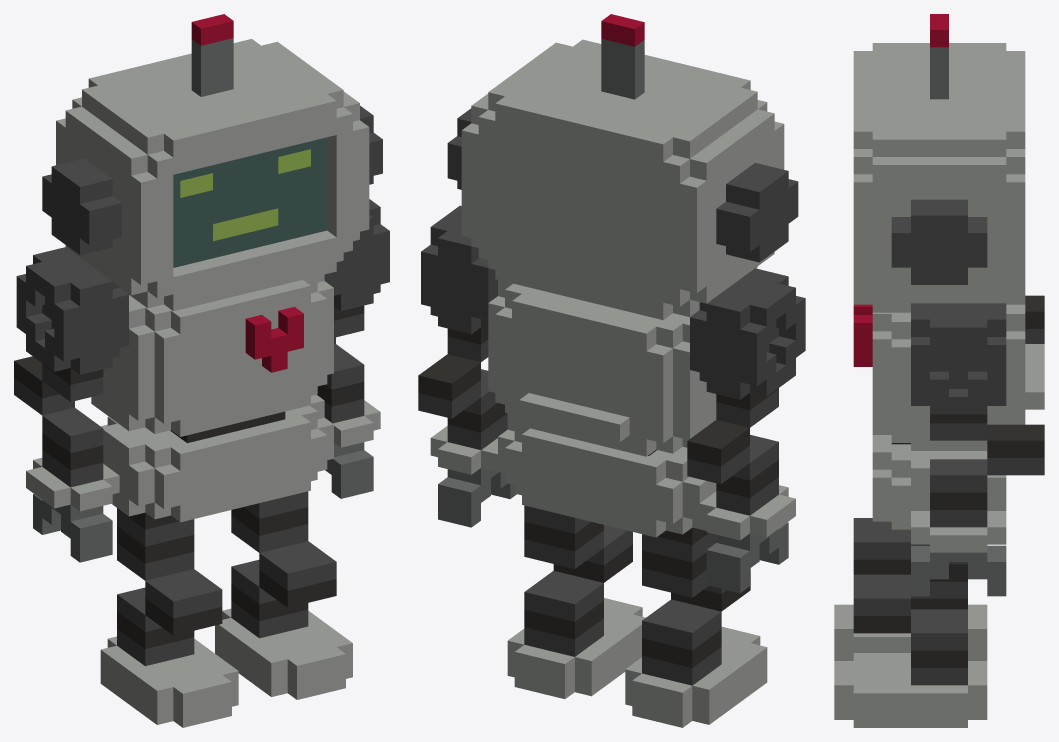
The model's file is player_main_jump-start_0.fbx.
The picture shows the model from 3 angles, left to right: view 1: azimuth 30°, elevation 25°; view 2: azimuth 150°, elevation 25°; view 3: azimuth 270°, elevation 25°; orthographic projection. The views are drawn at different scales.
Parts seen in each view (by area): view 1: model_5; view 2: model_5; view 3: model_5.
Boxes of the visible parts, box(x1,y1,x2,y2) form: model_5: box(14, 14, 389, 727); model_5: box(418, 14, 805, 727); model_5: box(834, 14, 1044, 727).
Bounding box in the file's own units: 200 × 110 × 380.
